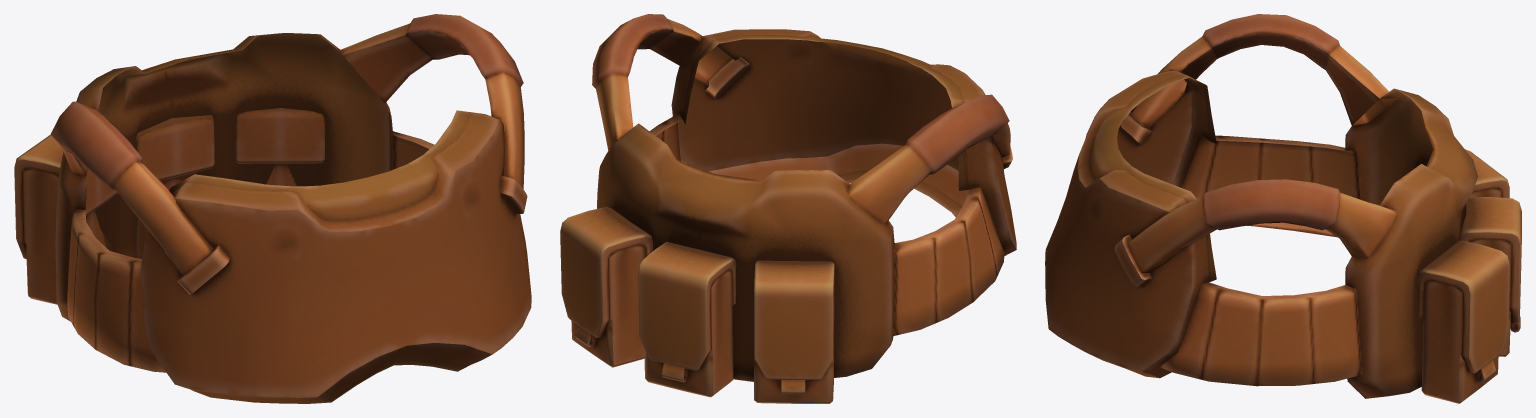
Rendered from IG_Armor_LV3.fbx.
3 renders of one model, left to right at view 1: azimuth 30°, elevation 25°; view 2: azimuth 150°, elevation 25°; view 3: azimuth 270°, elevation 25°, orthographic. The views are drawn at different scales.
Visible parts, largest first — view 1: Clothes_LV2; view 2: Clothes_LV2; view 3: Clothes_LV2.
Part boxes in pixels (left/top/right/bottom): Clothes_LV2: left=14, top=14, right=531, bottom=403; Clothes_LV2: left=560, top=14, right=1016, bottom=403; Clothes_LV2: left=1045, top=14, right=1521, bottom=403.
Bounding box in the file's own units: 0.6581 × 0.4146 × 0.7077.
1 material, 1 textured.
